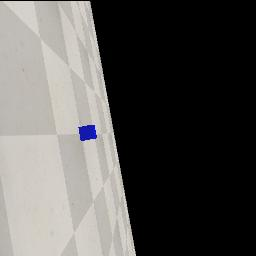box: (78, 125, 97, 141)
